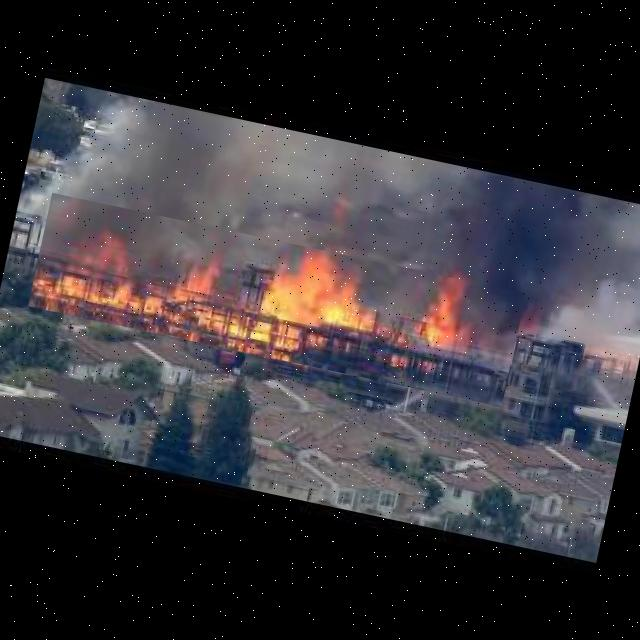fire: (28, 192, 526, 406)
